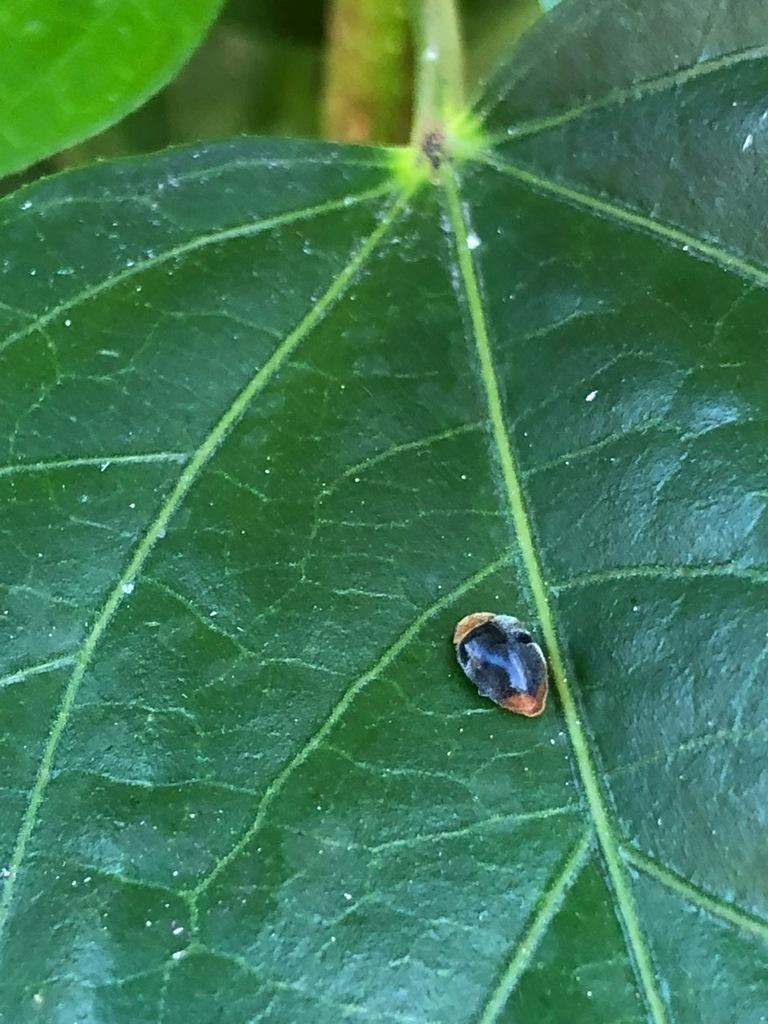ladybug: (449, 596, 564, 731)
